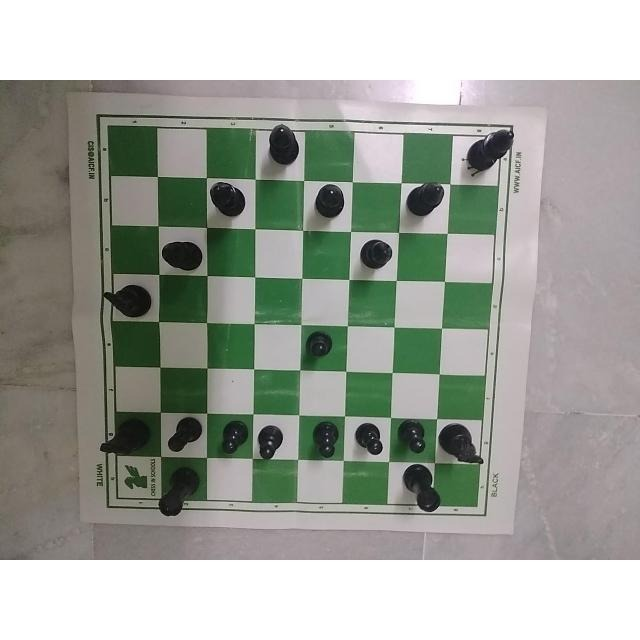black-bishop: (460, 121, 520, 171), (264, 115, 310, 173), (304, 180, 355, 224), (162, 222, 200, 278), (356, 232, 404, 273), (406, 176, 454, 216), (209, 175, 245, 221)
black-knight: (97, 409, 152, 457), (437, 420, 493, 464), (101, 278, 153, 325)
black-pawn: (160, 410, 204, 464), (302, 414, 346, 461), (218, 416, 252, 465), (252, 420, 288, 465), (396, 412, 432, 455), (298, 324, 333, 365), (353, 419, 389, 458)
black-rook: (150, 465, 206, 521), (401, 466, 440, 518)
